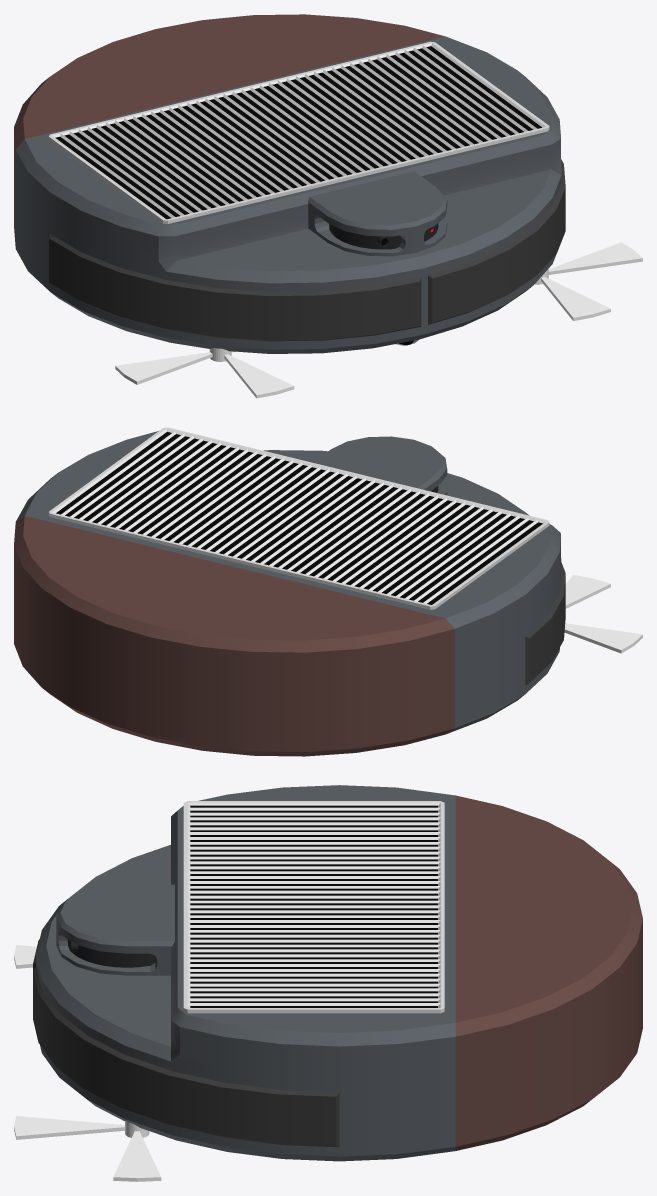
The model's file is RobotVacuum.glb.
3 views of the same model, one above another, from view 1: azimuth 30°, elevation 25°; view 2: azimuth 150°, elevation 25°; view 3: azimuth 270°, elevation 25° (orthographic). The views are drawn at different scales.
Visible parts, largest first — view 1: Object_6, Object_5, Object_14; view 2: Object_6, Object_5, Object_14; view 3: Object_6, Object_5, Object_14.
Boxes of the visible parts, box(x1,y1,x2,y2) form: Object_6: box(14, 14, 565, 353); Object_5: box(48, 41, 549, 345); Object_14: box(115, 242, 642, 398); Object_6: box(14, 431, 565, 756); Object_5: box(48, 427, 549, 609); Object_14: box(564, 574, 642, 653); Object_6: box(33, 785, 642, 1161); Object_5: box(183, 801, 444, 1013); Object_14: box(14, 945, 161, 1181).
Bounding box in the file's own units: 0.3218 × 0.0837 × 0.3109.
Materials: 4 (4 with a texture image).
